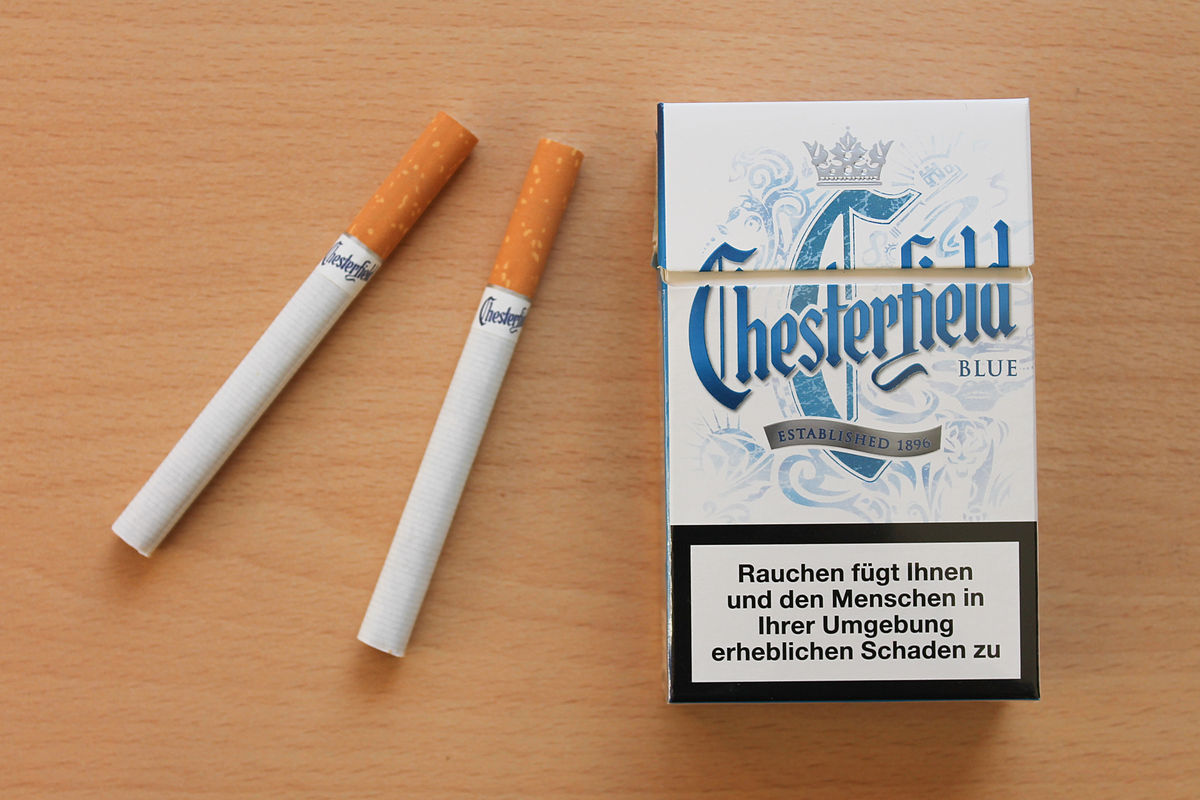cigarette: (106, 101, 481, 570)
